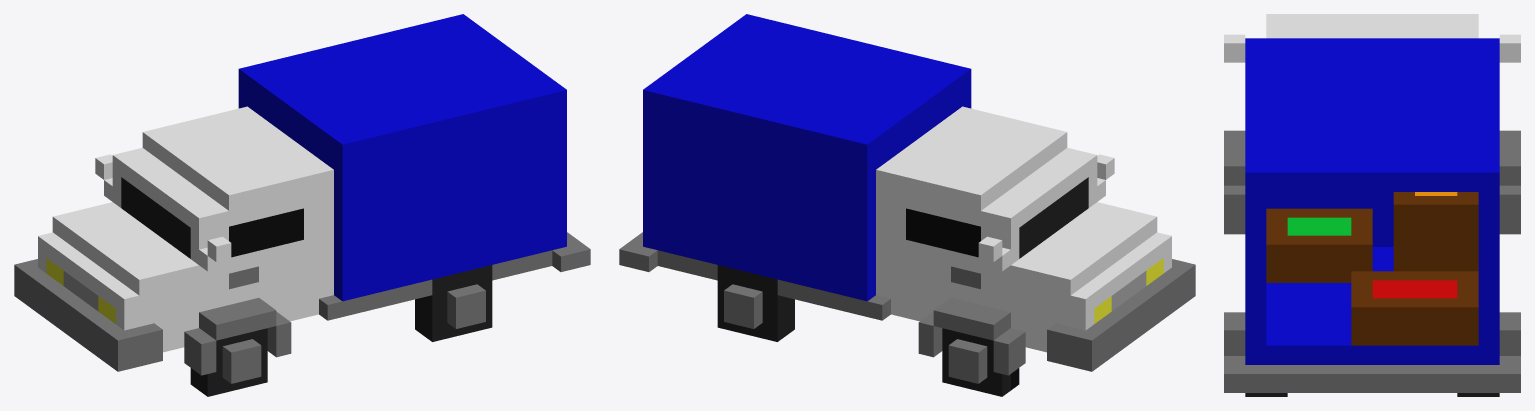
Rendered from CamionAbastos3.fbx.
3 views of the same model, side by side, from view 1: azimuth 30°, elevation 25°; view 2: azimuth 150°, elevation 25°; view 3: azimuth 270°, elevation 25° (orthographic). The views are drawn at different scales.
Visible parts, largest first — view 1: Cubo.1083; view 2: Cubo.1083; view 3: Cubo.1083.
Part boxes in pixels (<box>): Cubo.1083: <box>14,14,590,396</box>; Cubo.1083: <box>619,14,1195,396</box>; Cubo.1083: <box>1224,14,1520,396</box>.
Size of the model in its own units: 1400 by 1400 by 3100.
